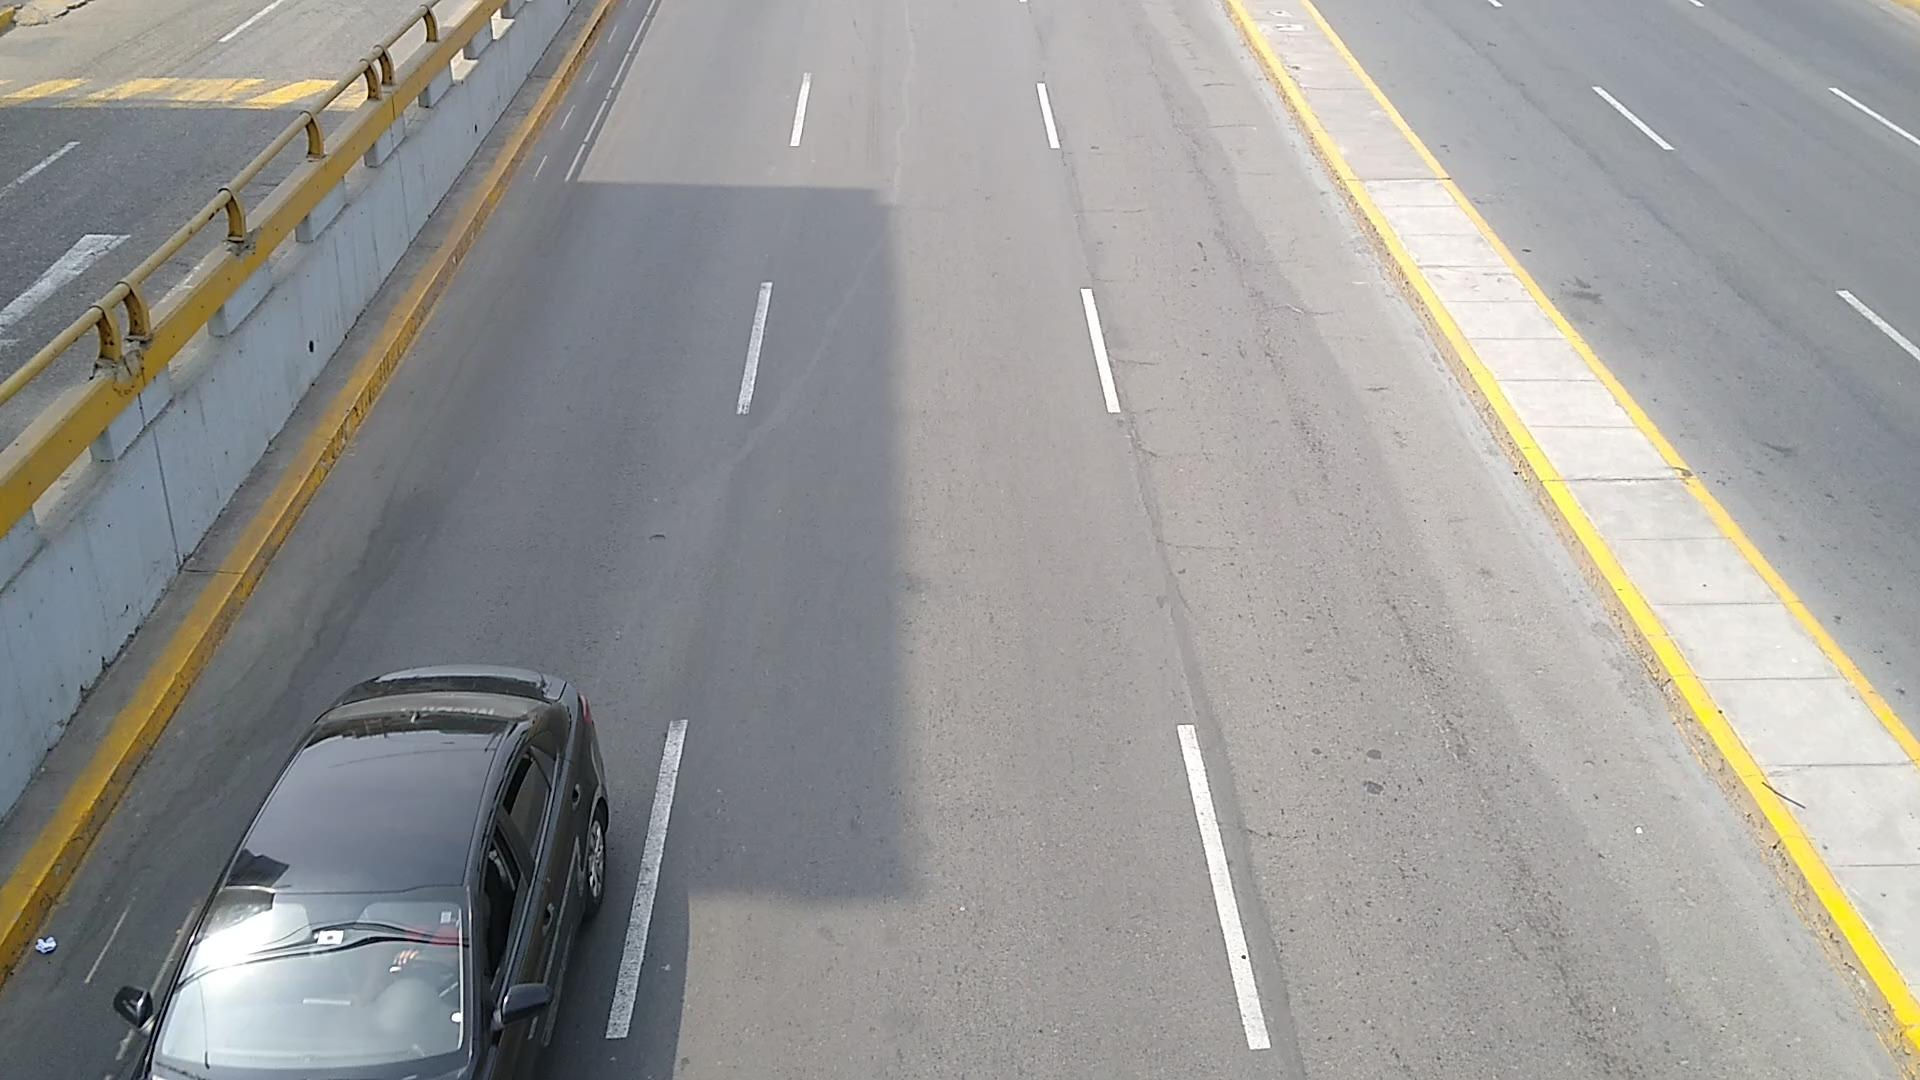car: (112, 667, 608, 1080)
